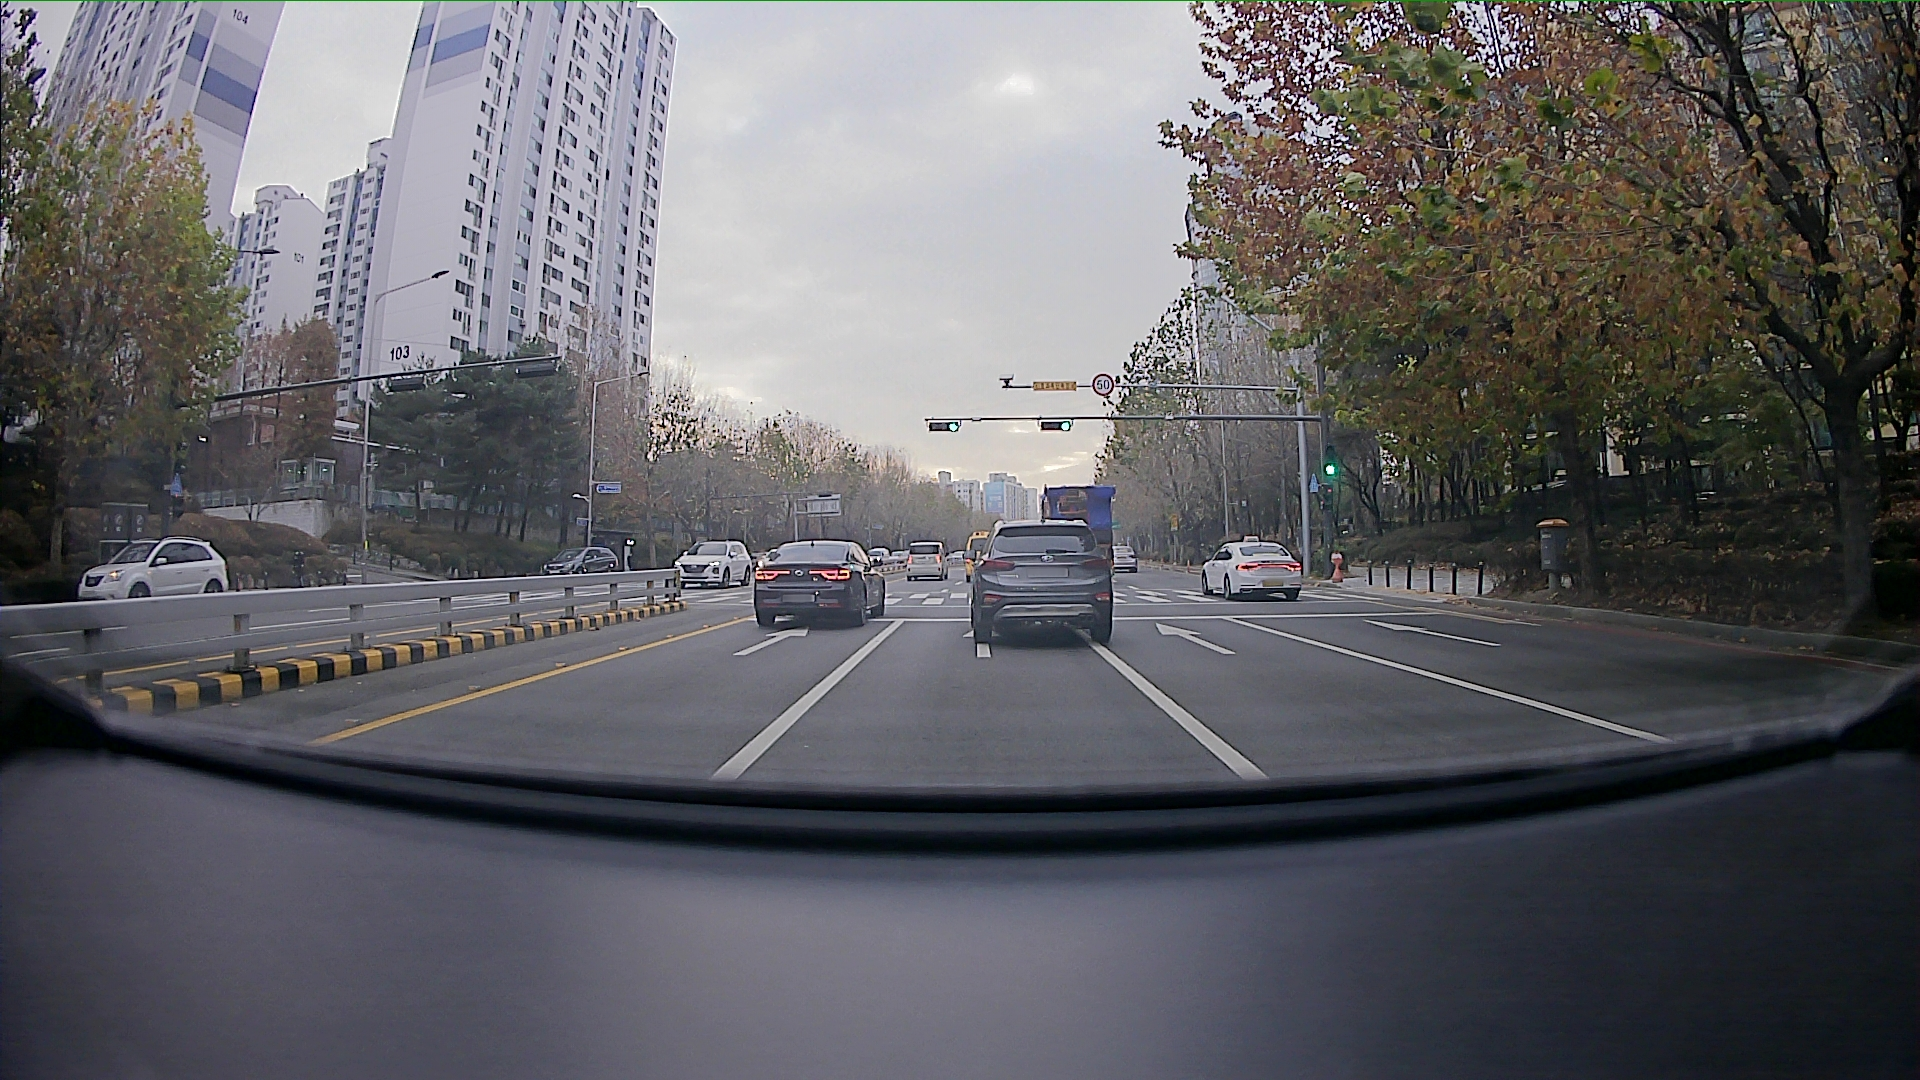trafficLight: (1039, 413, 1073, 433), (924, 418, 961, 435)
trafficLightBar: (1321, 440, 1338, 479)
trafficSignCircle: (1092, 375, 1110, 396)
